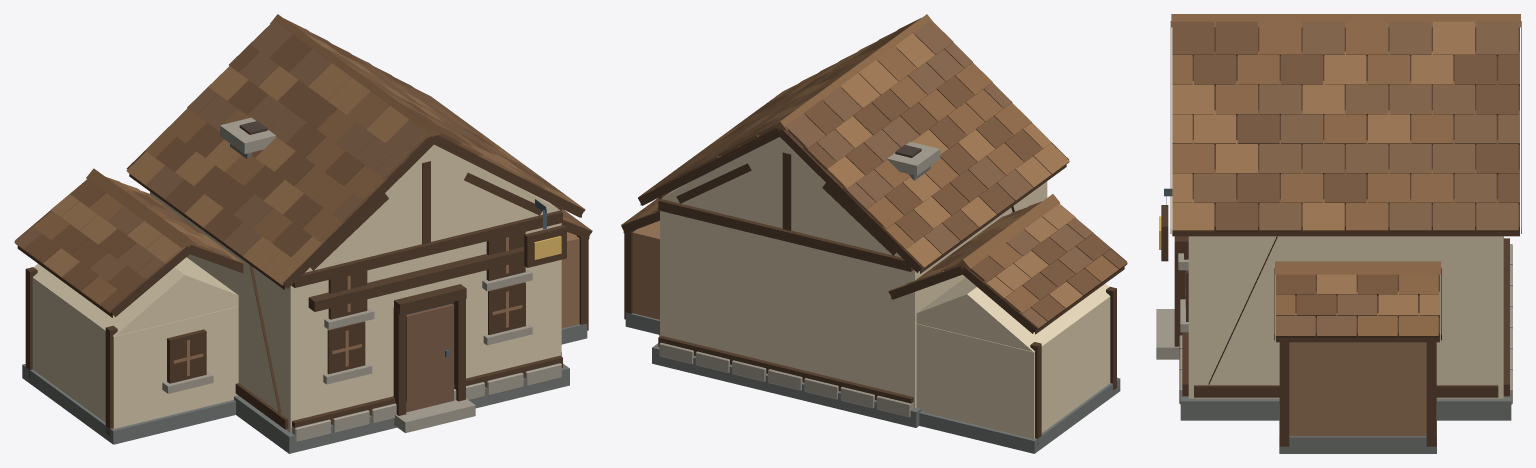
The model's file is ENV_Civic_tavern_LOD0.glb.
3 renders of one model, left to right at view 1: azimuth 30°, elevation 25°; view 2: azimuth 150°, elevation 25°; view 3: azimuth 270°, elevation 25°, orthographic. The views are drawn at different scales.
Visible parts, largest first — view 1: ENV_Civic_tavern_LOD0_roof_roofTiles, ENV_Civic_tavern_LOD0_shell_plasterIvory, ENV_Civic_tavern_LOD0_stage6_wing_plasterIvory, ENV_Civic_tavern_LOD0_shell_woodDark, ENV_Civic_tavern_LOD0_stage6_wing_roofTiles, ENV_Civic_tavern_LOD0_tavern_identity_woodDark, ENV_Civic_tavern_LOD0_stage6_wing_woodDark, ENV_Civic_tavern_LOD0_shell_wood, ENV_Civic_tavern_LOD0_roof_woodDark, ENV_Civic_tavern_LOD0_foundation_stoneDark, ENV_Civic_tavern_LOD0_stage6_wing_stoneDark, ENV_Civic_tavern_LOD0_foundation_stone (+4 smaller); view 2: ENV_Civic_tavern_LOD0_shell_plasterIvory, ENV_Civic_tavern_LOD0_roof_roofTiles, ENV_Civic_tavern_LOD0_stage6_wing_plasterIvory, ENV_Civic_tavern_LOD0_stage6_wing_roofTiles, ENV_Civic_tavern_LOD0_shell_woodDark, ENV_Civic_tavern_LOD0_roof_woodDark, ENV_Civic_tavern_LOD0_foundation_stone, ENV_Civic_tavern_LOD0_stage6_wing_woodDark, ENV_Civic_tavern_LOD0_stage6_wing_stoneDark, ENV_Civic_tavern_LOD0_foundation_stoneDark, ENV_Civic_tavern_LOD0_stage5_shed_woodLight, ENV_Civic_tavern_LOD0_stage5_shed_woodDark (+2 smaller); view 3: ENV_Civic_tavern_LOD0_roof_roofTiles, ENV_Civic_tavern_LOD0_shell_plasterIvory, ENV_Civic_tavern_LOD0_stage5_shed_woodLight, ENV_Civic_tavern_LOD0_stage5_shed_roofTiles, ENV_Civic_tavern_LOD0_roof_woodDark, ENV_Civic_tavern_LOD0_shell_woodDark, ENV_Civic_tavern_LOD0_foundation_stoneDark, ENV_Civic_tavern_LOD0_stage5_shed_woodDark, ENV_Civic_tavern_LOD0_stage5_shed_stoneDark, ENV_Civic_tavern_LOD0_shell_stone, ENV_Civic_tavern_LOD0_tavern_identity_woodDark, ENV_Civic_tavern_LOD0_foundation_stone.
Boxes of the visible parts, box(x1,y1,x2,y2) form: ENV_Civic_tavern_LOD0_roof_roofTiles: box(126, 14, 585, 285); ENV_Civic_tavern_LOD0_shell_plasterIvory: box(150, 144, 561, 432); ENV_Civic_tavern_LOD0_stage6_wing_plasterIvory: box(32, 257, 238, 428); ENV_Civic_tavern_LOD0_shell_woodDark: box(235, 161, 562, 429); ENV_Civic_tavern_LOD0_stage6_wing_roofTiles: box(14, 168, 242, 312); ENV_Civic_tavern_LOD0_tavern_identity_woodDark: box(308, 225, 566, 319); ENV_Civic_tavern_LOD0_stage6_wing_woodDark: box(15, 179, 243, 435); ENV_Civic_tavern_LOD0_shell_wood: box(406, 304, 453, 412); ENV_Civic_tavern_LOD0_roof_woodDark: box(126, 108, 584, 289); ENV_Civic_tavern_LOD0_foundation_stoneDark: box(234, 363, 569, 453); ENV_Civic_tavern_LOD0_stage6_wing_stoneDark: box(22, 364, 235, 444); ENV_Civic_tavern_LOD0_foundation_stone: box(291, 363, 561, 442); ENV_Civic_tavern_LOD0_shell_plasterIvory: box(660, 137, 1047, 408); ENV_Civic_tavern_LOD0_roof_roofTiles: box(638, 14, 1069, 268); ENV_Civic_tavern_LOD0_stage6_wing_plasterIvory: box(916, 277, 1110, 438); ENV_Civic_tavern_LOD0_stage6_wing_roofTiles: box(888, 194, 1127, 329); ENV_Civic_tavern_LOD0_shell_woodDark: box(658, 152, 1014, 403); ENV_Civic_tavern_LOD0_roof_woodDark: box(638, 123, 1068, 273); ENV_Civic_tavern_LOD0_foundation_stone: box(659, 342, 913, 417); ENV_Civic_tavern_LOD0_stage6_wing_woodDark: box(889, 233, 1126, 445); ENV_Civic_tavern_LOD0_stage6_wing_stoneDark: box(919, 377, 1120, 453); ENV_Civic_tavern_LOD0_foundation_stoneDark: box(652, 343, 921, 427); ENV_Civic_tavern_LOD0_stage5_shed_woodLight: box(632, 220, 659, 319); ENV_Civic_tavern_LOD0_stage5_shed_woodDark: box(621, 211, 659, 319); ENV_Civic_tavern_LOD0_roof_roofTiles: box(1171, 14, 1520, 231); ENV_Civic_tavern_LOD0_shell_plasterIvory: box(1188, 236, 1503, 398); ENV_Civic_tavern_LOD0_stage5_shed_woodLight: box(1289, 342, 1426, 436); ENV_Civic_tavern_LOD0_stage5_shed_roofTiles: box(1275, 261, 1440, 337); ENV_Civic_tavern_LOD0_roof_woodDark: box(1170, 21, 1521, 236); ENV_Civic_tavern_LOD0_shell_woodDark: box(1174, 236, 1509, 397); ENV_Civic_tavern_LOD0_foundation_stoneDark: box(1180, 397, 1511, 420); ENV_Civic_tavern_LOD0_stage5_shed_woodDark: box(1274, 268, 1441, 446); ENV_Civic_tavern_LOD0_stage5_shed_stoneDark: box(1279, 404, 1436, 453); ENV_Civic_tavern_LOD0_shell_stone: box(1156, 299, 1188, 359); ENV_Civic_tavern_LOD0_tavern_identity_woodDark: box(1161, 205, 1188, 261); ENV_Civic_tavern_LOD0_foundation_stone: box(1179, 244, 1512, 404).
Bounding box in the file's own units: 8.76 × 5.2 × 5.22.
